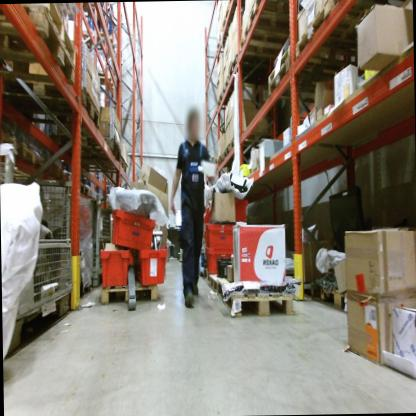pallet: (208, 155, 348, 315), (294, 0, 403, 61), (0, 9, 78, 93), (0, 72, 103, 135), (0, 4, 84, 61), (267, 59, 359, 111), (216, 278, 302, 323), (233, 21, 314, 65), (246, 0, 308, 34), (96, 280, 161, 312), (58, 133, 120, 163), (227, 56, 281, 81), (226, 132, 279, 157), (77, 25, 118, 57), (71, 153, 128, 175), (264, 42, 299, 77), (18, 135, 47, 169), (85, 57, 115, 85), (0, 123, 21, 158), (70, 172, 93, 197), (206, 272, 222, 297), (72, 3, 104, 15), (221, 142, 237, 164), (83, 182, 99, 201), (221, 77, 234, 96), (215, 89, 223, 110), (217, 155, 226, 170), (200, 271, 209, 281)
small_load_carrier: (106, 206, 161, 250), (134, 237, 174, 291), (203, 190, 253, 226), (200, 216, 246, 254), (98, 238, 132, 286), (201, 241, 246, 276)
stillage: (2, 133, 80, 349), (80, 195, 115, 295)
